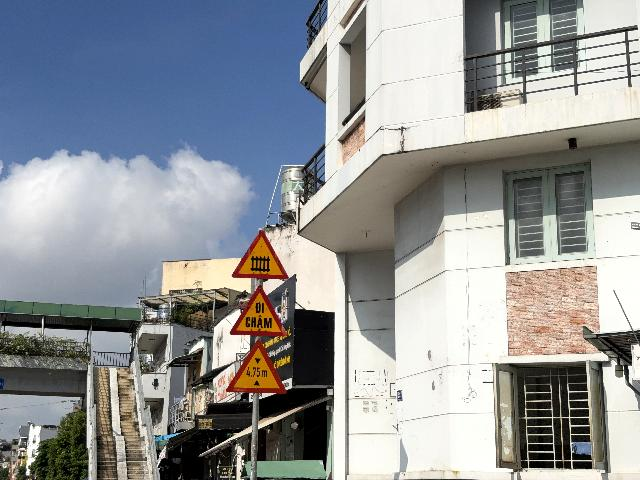chieu-cao-tinh-khong-thuc-te: (226, 339, 287, 394)
di-cham: (230, 284, 288, 337)
noi-giao-nhau-voi-duong-sat-co-rao-chan: (231, 229, 289, 279)
